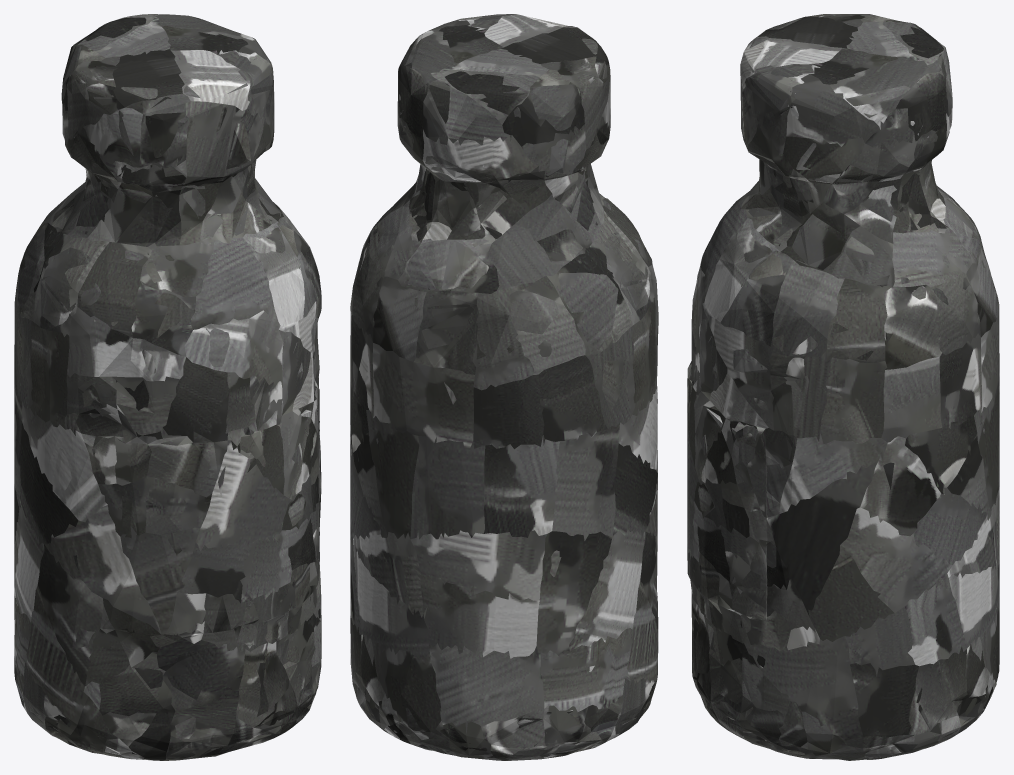
File: Antidote_Reduce.fbx
The picture shows the model from 3 angles, left to right: view 1: azimuth 30°, elevation 25°; view 2: azimuth 150°, elevation 25°; view 3: azimuth 270°, elevation 25°; orthographic projection.
Parts seen in each view (by area): view 1: Mesh_0; view 2: Mesh_0; view 3: Mesh_0.
Part boxes in pixels (<box>): Mesh_0: <box>14,14,321,760</box>; Mesh_0: <box>350,14,658,760</box>; Mesh_0: <box>687,14,999,760</box>.
Size of the model in its own units: 80.16 by 190 by 81.37.
